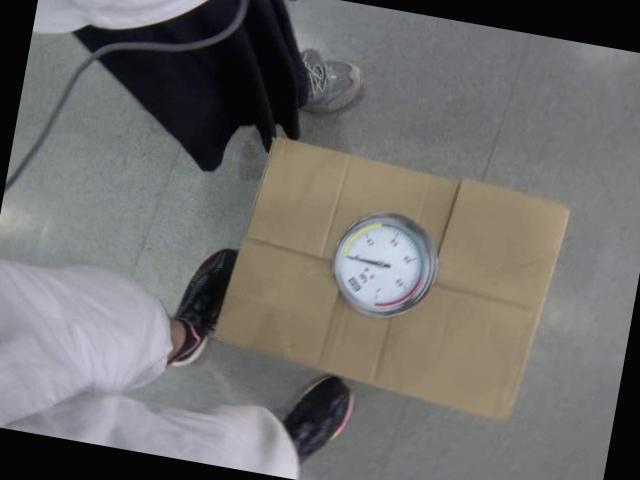Dashboard: (320, 202, 446, 329)
ssi: (344, 273, 363, 293)
